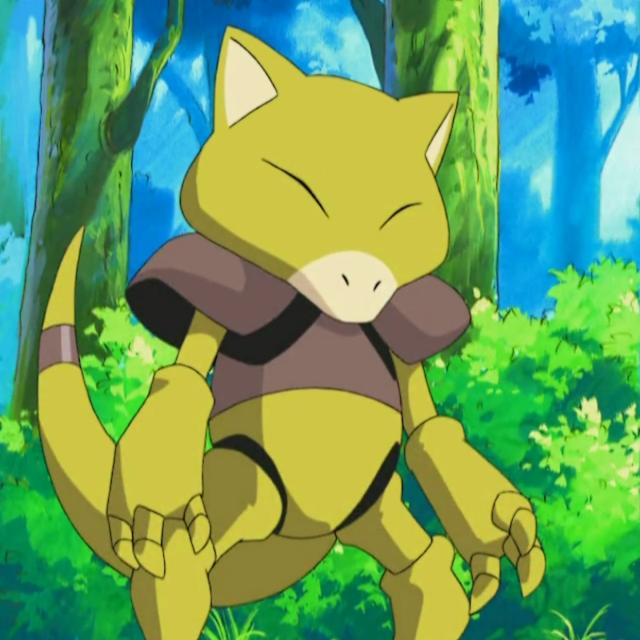Abra: (96, 28, 541, 638)
